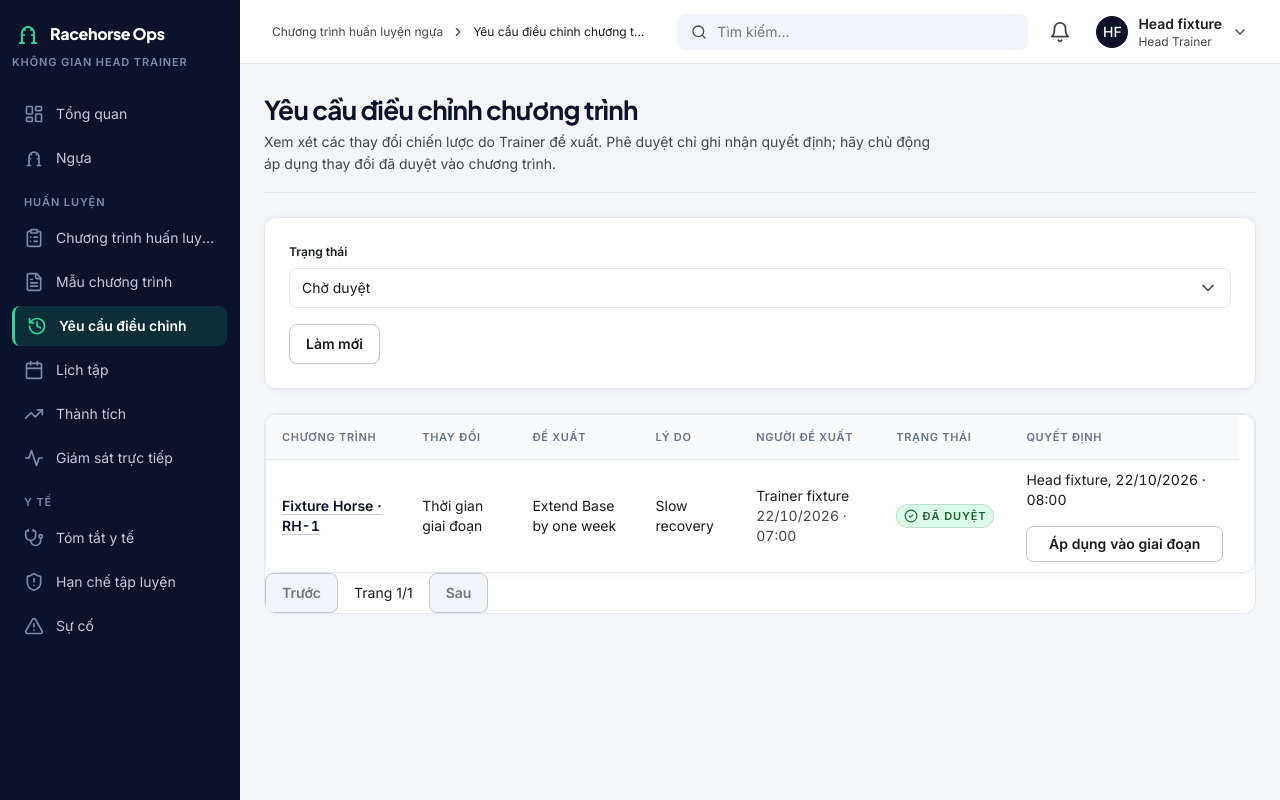
Scenario: blocks overlapping or out-of-period phases before any write and warns when already applied
Click the button "Áp dụng vào giai đoạn": [1125, 544] box [1026, 526, 1223, 562]
(page scrolled)
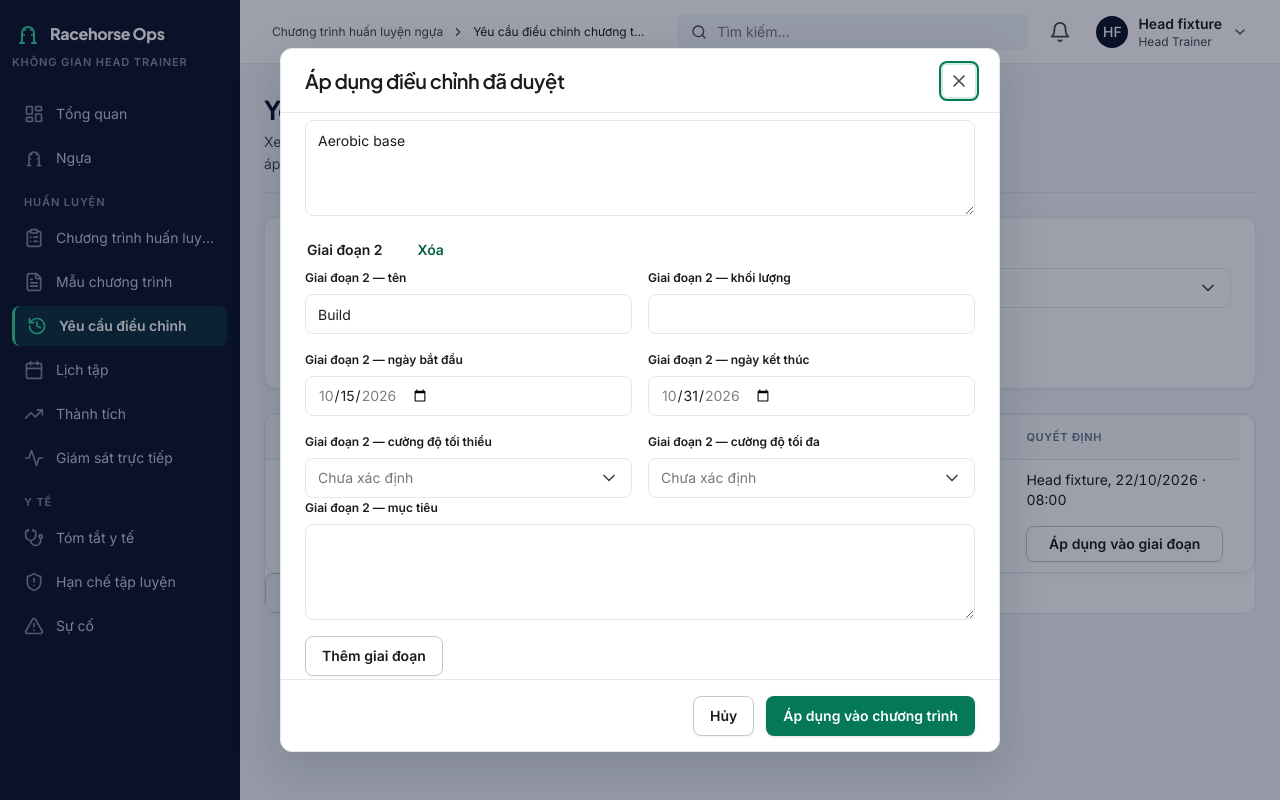
In the date field labelled "Giai đoạn 2 — ngày bắt đầu": [468, 396] box [305, 376, 632, 416], type "2026-10-10"
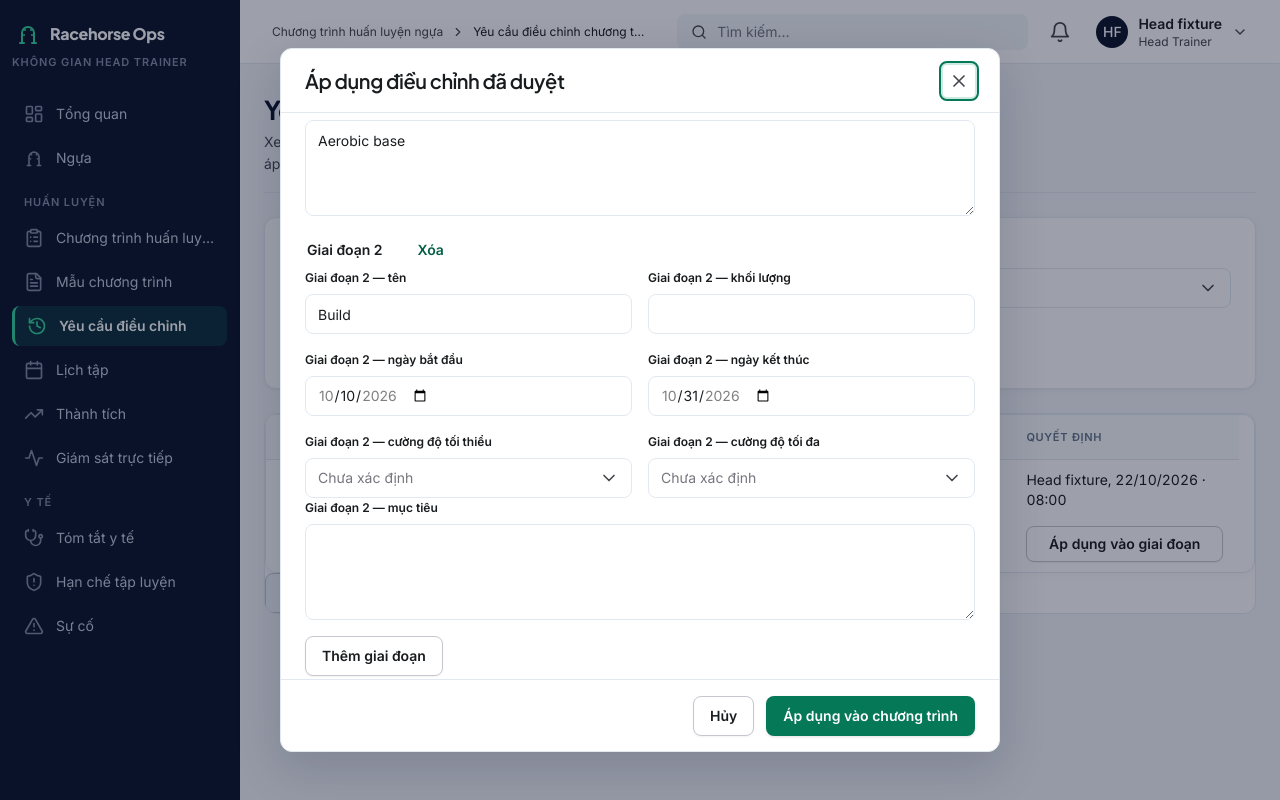
In the date field labelled "Giai đoạn 2 — ngày kết thúc": [812, 396] box [648, 376, 975, 416], type "2026-11-05"
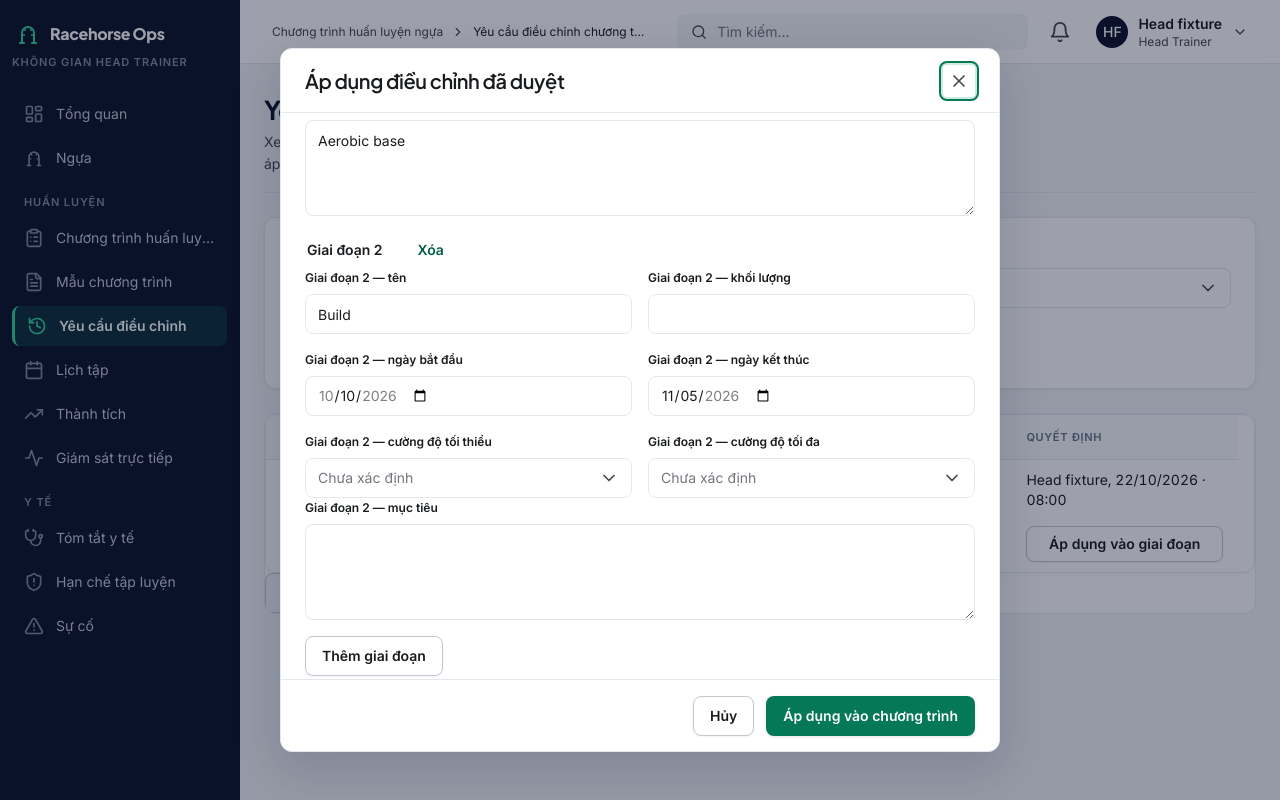
Click the button "Áp dụng vào chương trình": [871, 716] box [766, 696, 975, 736]
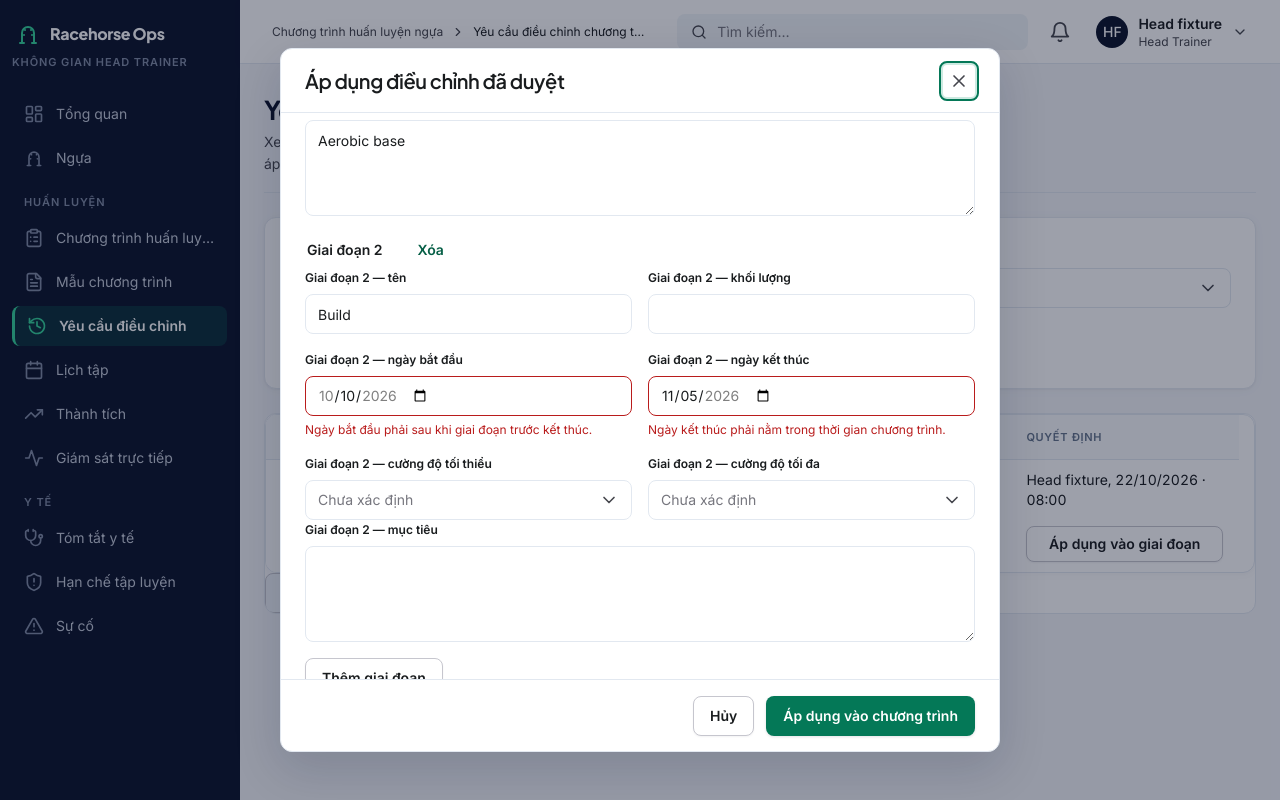
Expected: the text "Ngày bắt đầu phải sau khi giai đoạn trước kết thúc." is shown, [305, 422, 632, 438]
Expected: the text "Ngày kết thúc phải nằm trong thời gian chương trình." is shown, [648, 422, 975, 438]
